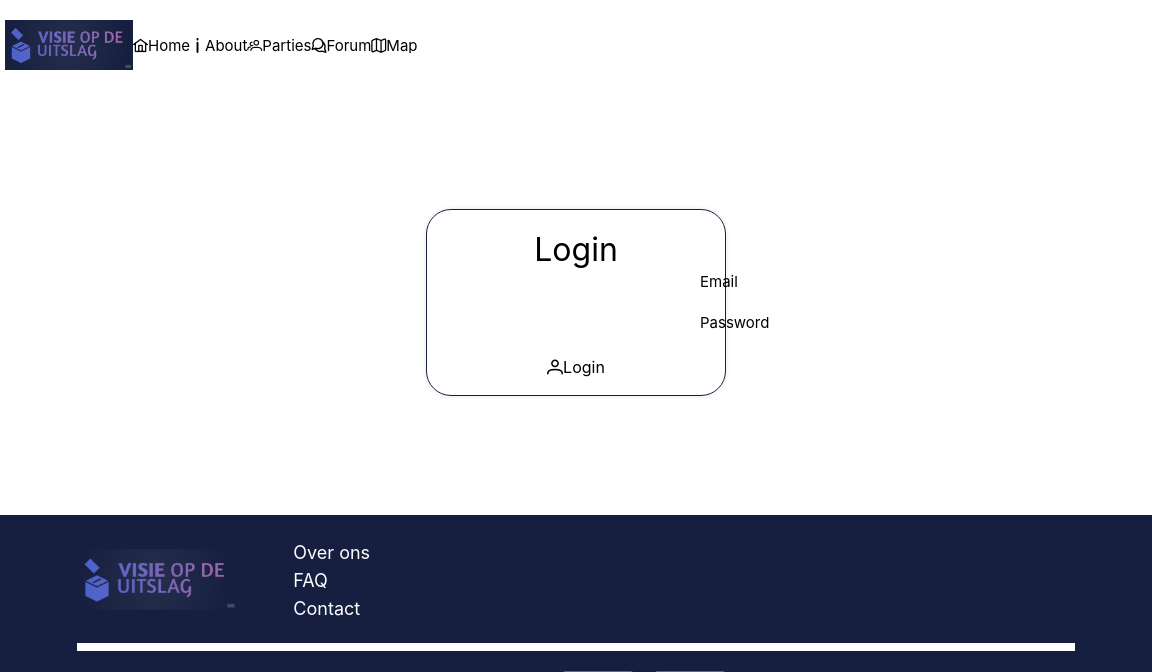
Test: login page › should show an error toast for invalid credentials
Type "nobody@example.com" into the field with test id "loginEmailInput".
click(576, 286); type("nobody@example.com")  # box [452,274,700,298]
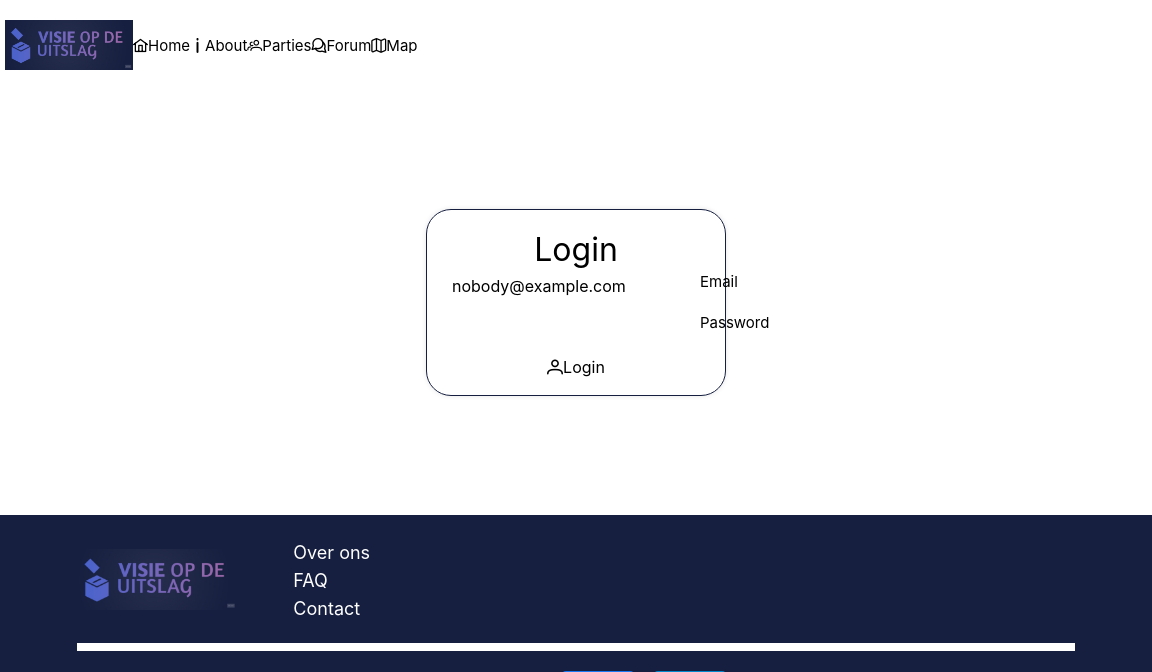
Type "password123" into the element with test id "loginPasswordInput".
click(576, 327); type("password123")  # box [452,315,700,339]
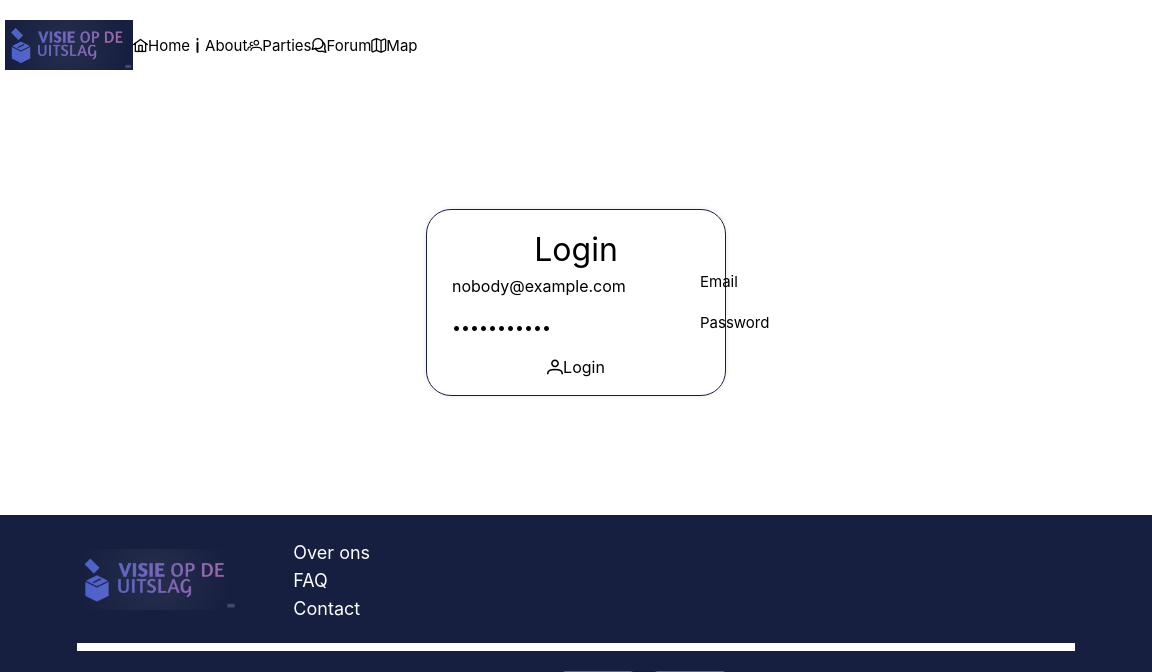
Click the button with test id "loginSubmit".
click(576, 367)  # box [547,355,605,379]
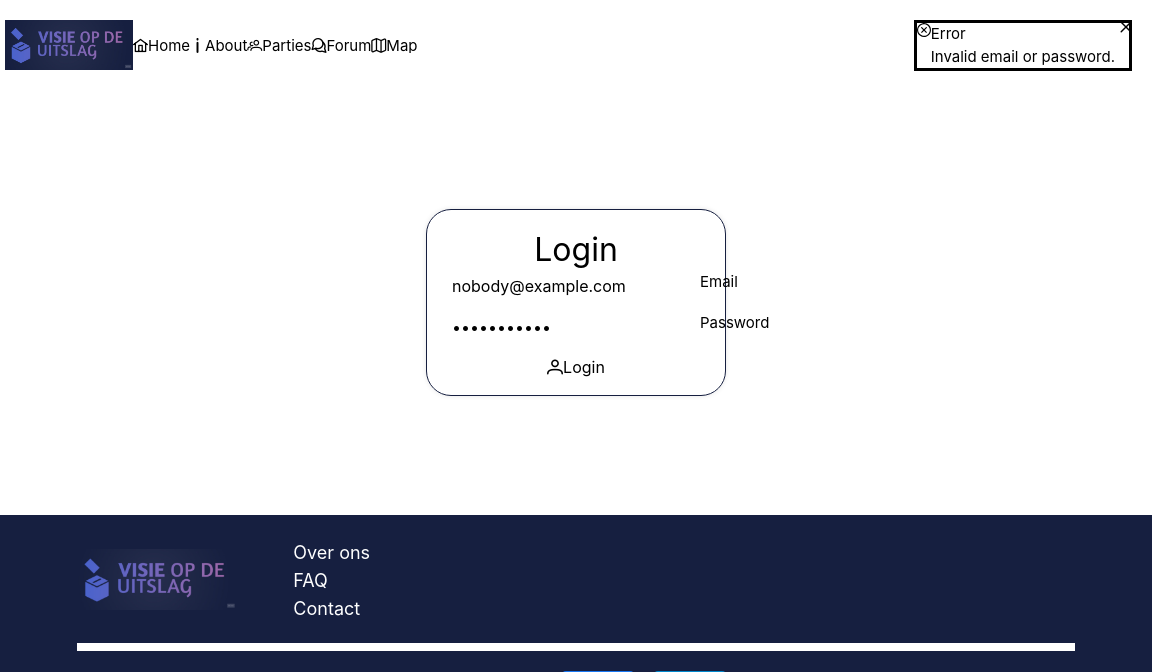
Expected: the element showing "Error Invalid email or password." is shown, [914,20,1132,87]
Expected: the text "Error" is shown, [931,24,966,43]
Expected: the text "Invalid email or password." is shown, [931,46,1115,68]
